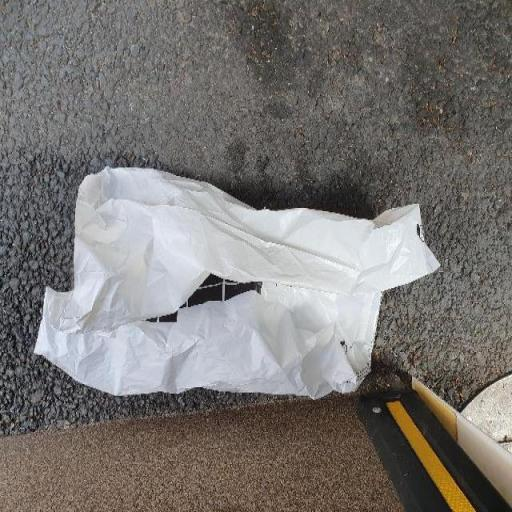plastic-bag: (32, 164, 440, 402)
